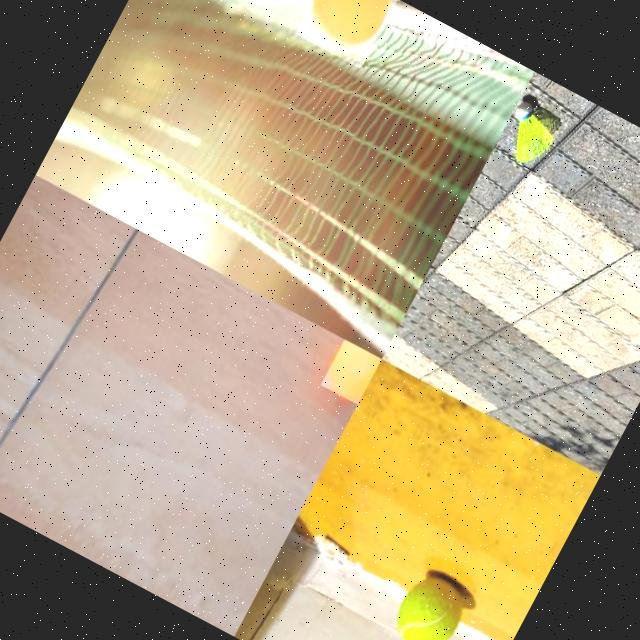ping-pong-ball: (292, 0, 398, 69), (318, 338, 380, 406)
